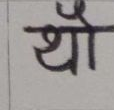au_matra: (63, 2, 103, 66)
